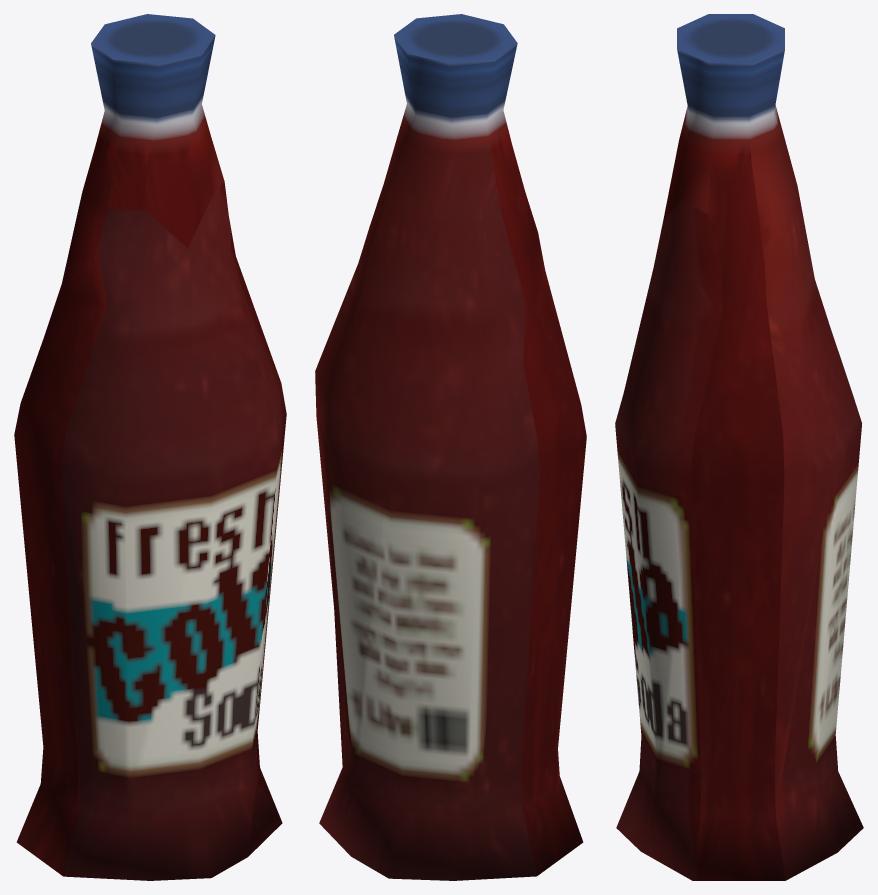
The model's file is ColaBottle.fbx.
3 renders of one model, left to right at view 1: azimuth 30°, elevation 25°; view 2: azimuth 150°, elevation 25°; view 3: azimuth 270°, elevation 25°, orthographic.
Parts seen in each view (by area): view 1: ColaBottle; view 2: ColaBottle; view 3: ColaBottle.
Boxes of the visible parts, <box> form: ColaBottle: <box>14,14,286,880</box>; ColaBottle: <box>315,14,586,880</box>; ColaBottle: <box>615,14,863,880</box>.
Bounding box in the file's own units: 15.9 × 53.24 × 15.21.
